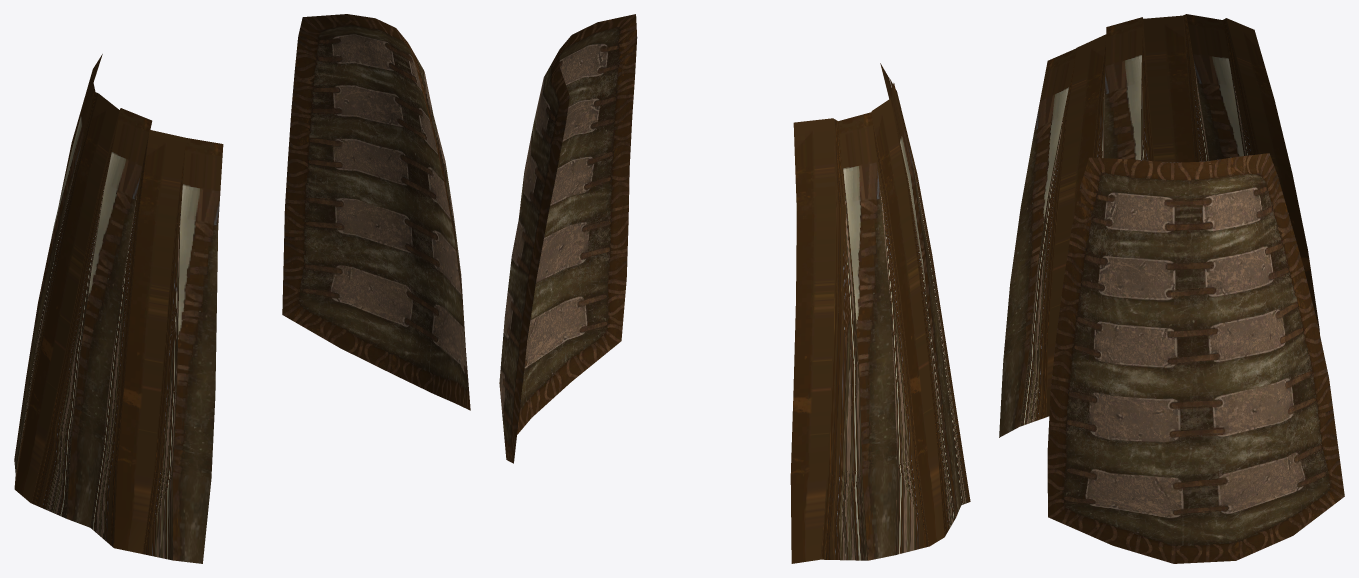
The model's file is clo_dunland_caerdh_chainmail_heavy_c.fbx.
3 renders of one model, left to right at view 1: azimuth 30°, elevation 25°; view 2: azimuth 150°, elevation 25°; view 3: azimuth 270°, elevation 25°, orthographic. The views are drawn at different scales.
Visible parts, largest first — view 1: clo_dunland_caerdh_chainmail_heavy_c; view 2: clo_dunland_caerdh_chainmail_heavy_c; view 3: clo_dunland_caerdh_chainmail_heavy_c.
Boxes of the visible parts, x1,y1,x2,y2 form: clo_dunland_caerdh_chainmail_heavy_c: (14,14,470,563); clo_dunland_caerdh_chainmail_heavy_c: (499,14,970,563); clo_dunland_caerdh_chainmail_heavy_c: (999,14,1344,563).
Size of the model in its own units: 0.539 by 0.3897 by 0.5233.
1 material, 1 textured.
